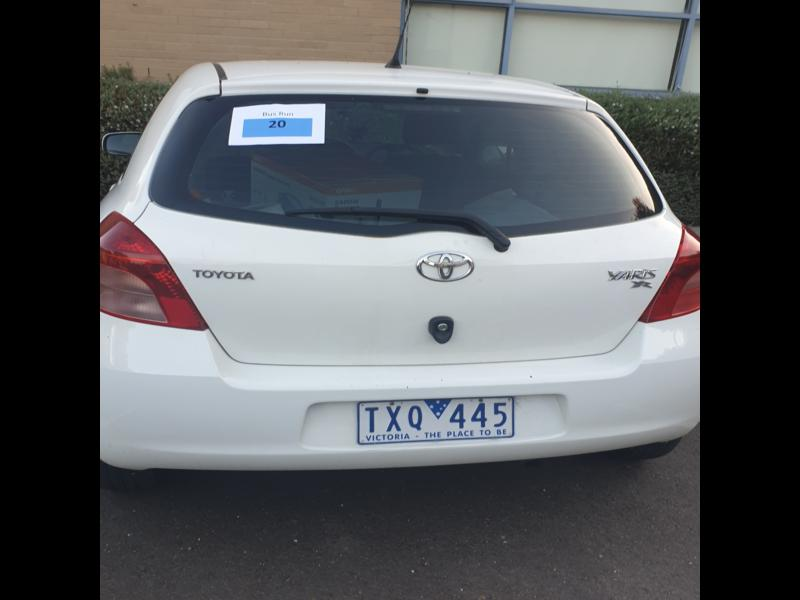BusRun: (240, 115, 315, 138)
PlateNo: (358, 395, 515, 445)
